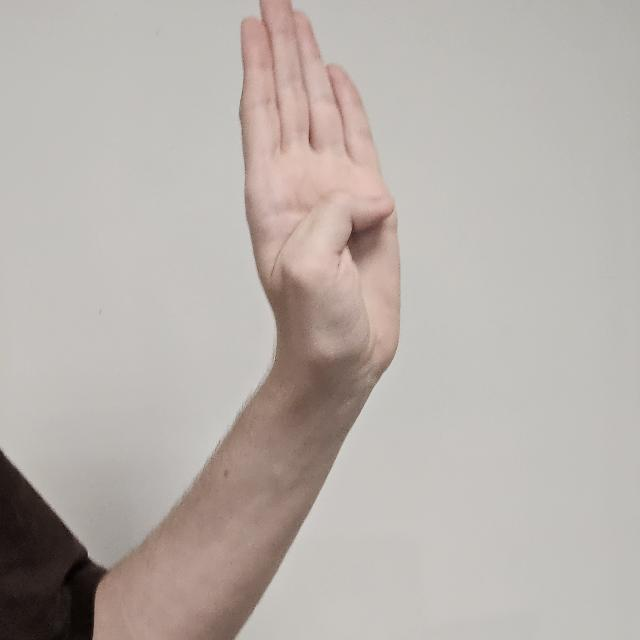Baixo: (225, 1, 425, 453)
